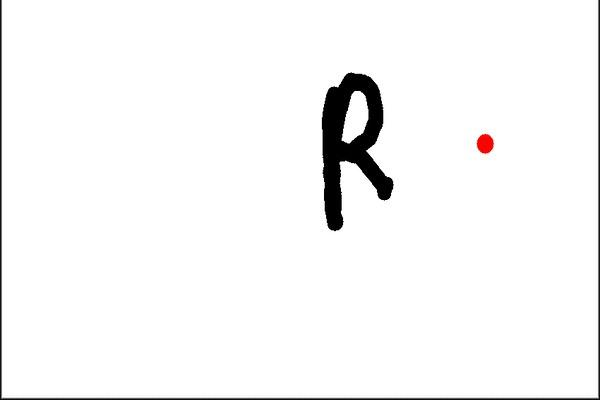R: (310, 65, 396, 234)
